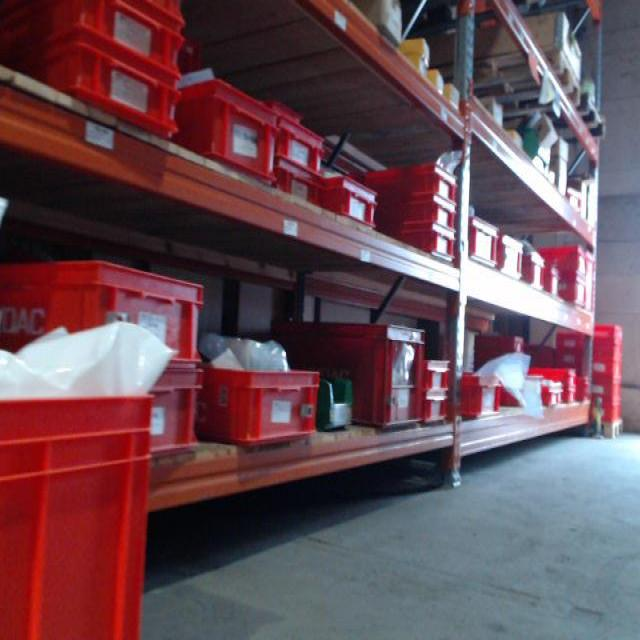pallet: (422, 41, 575, 124), (490, 91, 611, 151), (602, 416, 627, 441)
small_load_carrier: (5, 398, 157, 639), (3, 253, 206, 356), (15, 38, 180, 139), (276, 324, 423, 433), (8, 1, 186, 89), (162, 73, 277, 201), (199, 360, 327, 445), (132, 369, 207, 467), (361, 161, 460, 205), (270, 108, 330, 171), (319, 176, 382, 233), (389, 223, 457, 264), (267, 161, 324, 208), (384, 194, 456, 229), (524, 242, 593, 278), (553, 268, 595, 319), (458, 372, 510, 413), (463, 211, 499, 270), (496, 234, 526, 284), (141, 3, 193, 28), (421, 357, 457, 393), (422, 391, 454, 423), (530, 365, 573, 387), (586, 328, 622, 350), (524, 249, 541, 292), (590, 402, 623, 423), (556, 329, 583, 354), (590, 381, 622, 402), (589, 363, 623, 381), (542, 270, 560, 301), (571, 379, 594, 399), (586, 350, 621, 362), (558, 354, 586, 369), (538, 385, 561, 403), (555, 379, 564, 402), (563, 386, 576, 397)
